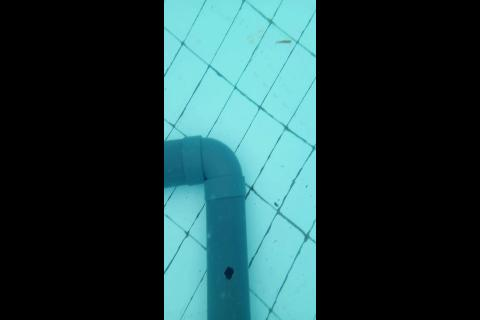kebocoran: (222, 264, 235, 280)
